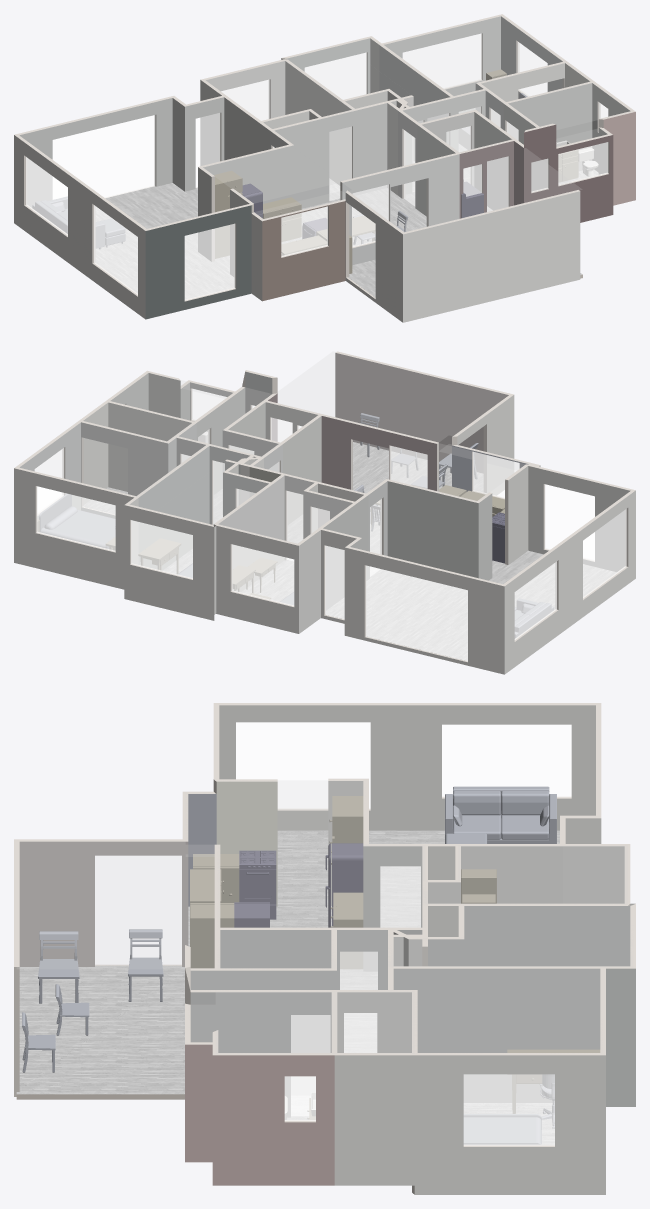
File: Auckland Northcross rooms.glb
The picture shows the model from 3 angles, top to bottom: view 1: azimuth 30°, elevation 25°; view 2: azimuth 150°, elevation 25°; view 3: azimuth 270°, elevation 25°; orthographic projection. The views are drawn at different scales.
Visible parts, largest first — view 1: wall_8, ceiling_Other_1, ceiling_Dining_Room, ceiling_Bedroom_6, wall_3, floor_Living_Room, wall_49, door_0, door_14, wall_77, wall_103, wall_36 (+99 smaller); view 2: wall_79, floor_Living_Room, ceiling_Other_1, ceiling_Dining_Room, door_0, door_14, ceiling_Bedroom_6, wall_20, wall_30, wall_3, wall_23, wall_26 (+86 smaller); view 3: ceiling_Other_1, wall_62, wall_69, floor_Other_1, wall_127, ceiling_Dining_Room, ceiling_Bedroom_6, wall_61, wall_117, wall_59, wall_133, window_0 (+76 smaller).
Boxes of the visible parts, box(x1,y1,x2,y2) form: wall_8: box(403, 191, 580, 322); ceiling_Other_1: box(347, 148, 581, 232); ceiling_Dining_Room: box(274, 103, 456, 180); ceiling_Bedroom_6: box(384, 16, 561, 90); wall_3: box(14, 135, 145, 319); floor_Living_Room: box(96, 183, 233, 299); wall_49: box(145, 205, 251, 319); door_0: box(53, 115, 154, 197); door_14: box(53, 115, 154, 197); wall_77: box(262, 201, 345, 301); wall_103: box(19, 98, 172, 207); wall_36: box(342, 154, 459, 265); wall_79: box(335, 353, 508, 472); floor_Living_Room: box(325, 550, 615, 660); ceiling_Other_1: box(278, 352, 507, 435); ceiling_Dining_Room: box(254, 416, 435, 493); door_0: box(366, 565, 467, 660); door_14: box(366, 566, 467, 660); ceiling_Bedroom_6: box(20, 423, 198, 496); wall_20: box(344, 547, 504, 674); wall_30: box(387, 481, 478, 578); wall_3: box(504, 490, 635, 674); wall_23: box(14, 468, 133, 589); wall_26: box(124, 505, 214, 620); ceiling_Other_1: box(17, 842, 184, 968); wall_62: box(414, 1055, 605, 1194); wall_69: box(219, 705, 595, 830); floor_Other_1: box(16, 965, 184, 1094); wall_127: box(393, 968, 600, 1102); ceiling_Dining_Room: box(218, 845, 424, 927); ceiling_Bedroom_6: box(415, 969, 599, 1052); wall_61: box(212, 1055, 334, 1185); wall_117: box(19, 841, 188, 966); wall_59: box(334, 1055, 414, 1185); wall_133: box(464, 906, 627, 966); window_0: box(236, 722, 370, 808).
Size of the model in its own units: 14.86 by 3.2 by 11.09.
Materials: 184 (18 with a texture image).
